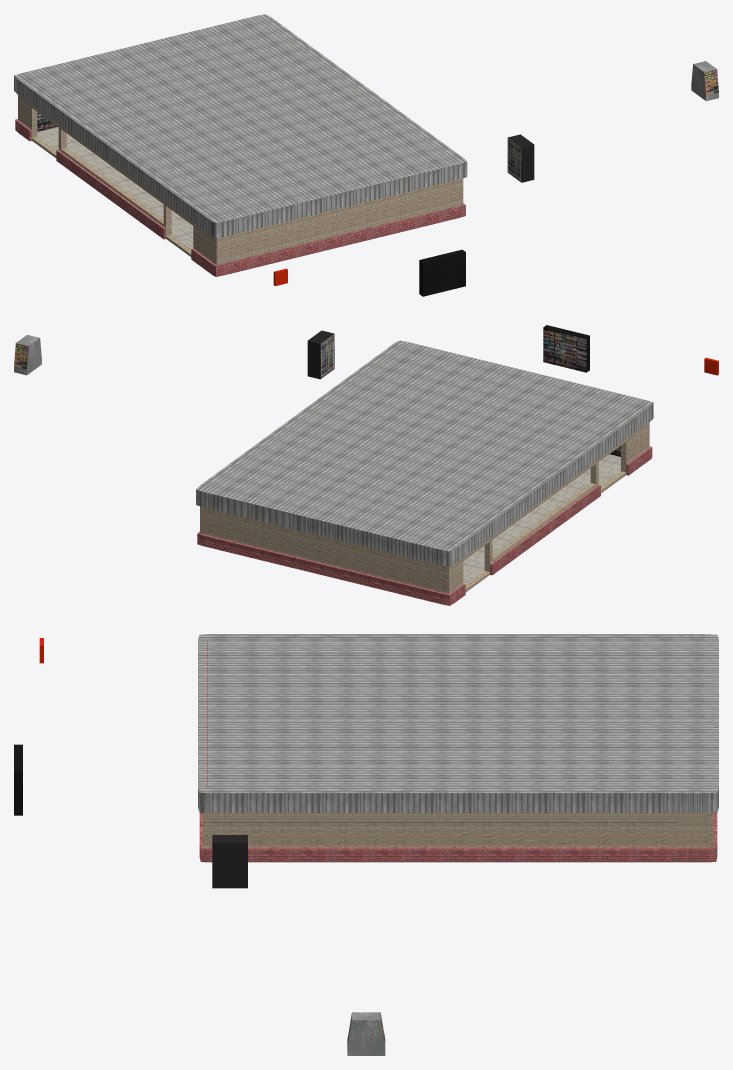
The model's file is conveniencestore.glb.
3 views of the same model, one above another, from view 1: azimuth 30°, elevation 25°; view 2: azimuth 150°, elevation 25°; view 3: azimuth 270°, elevation 25° (orthographic). The views are drawn at different scales.
Visible parts, largest first — view 1: convenience store, shelf, fridges.001, shelfmid; view 2: convenience store, shelf, fridges.001, shelfmid; view 3: convenience store, fridges.001, shelfmid.
Boxes of the visible parts, x1,y1,x2,y2 form: convenience store: (14,14,467,276); shelf: (419,249,465,296); fridges.001: (507,134,534,182); shelfmid: (691,61,718,101); convenience store: (196,340,653,605); shelf: (543,325,589,372); fridges.001: (307,330,334,379); shelfmid: (14,335,41,375); convenience store: (198,634,718,862); fridges.001: (212,835,247,888); shelfmid: (347,1012,385,1055).
Size of the model in its own units: 87.71 by 8.11 by 73.98.
Materials: 13 (12 with a texture image).
